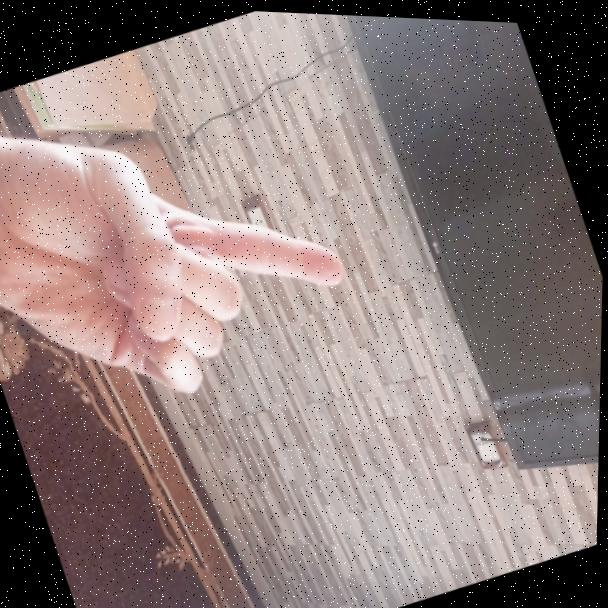one: (0, 76, 377, 449)
